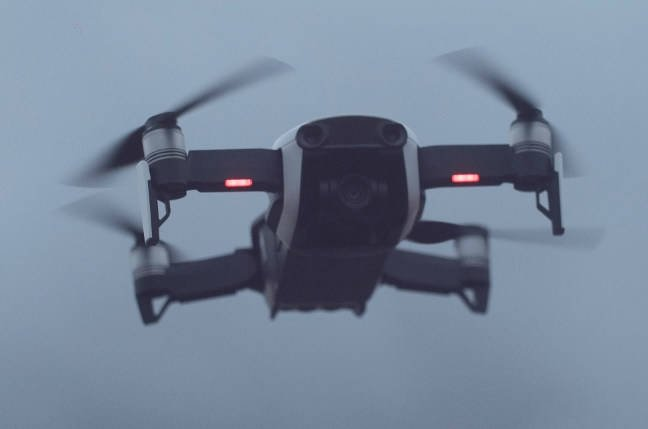drone: (49, 43, 615, 338)
